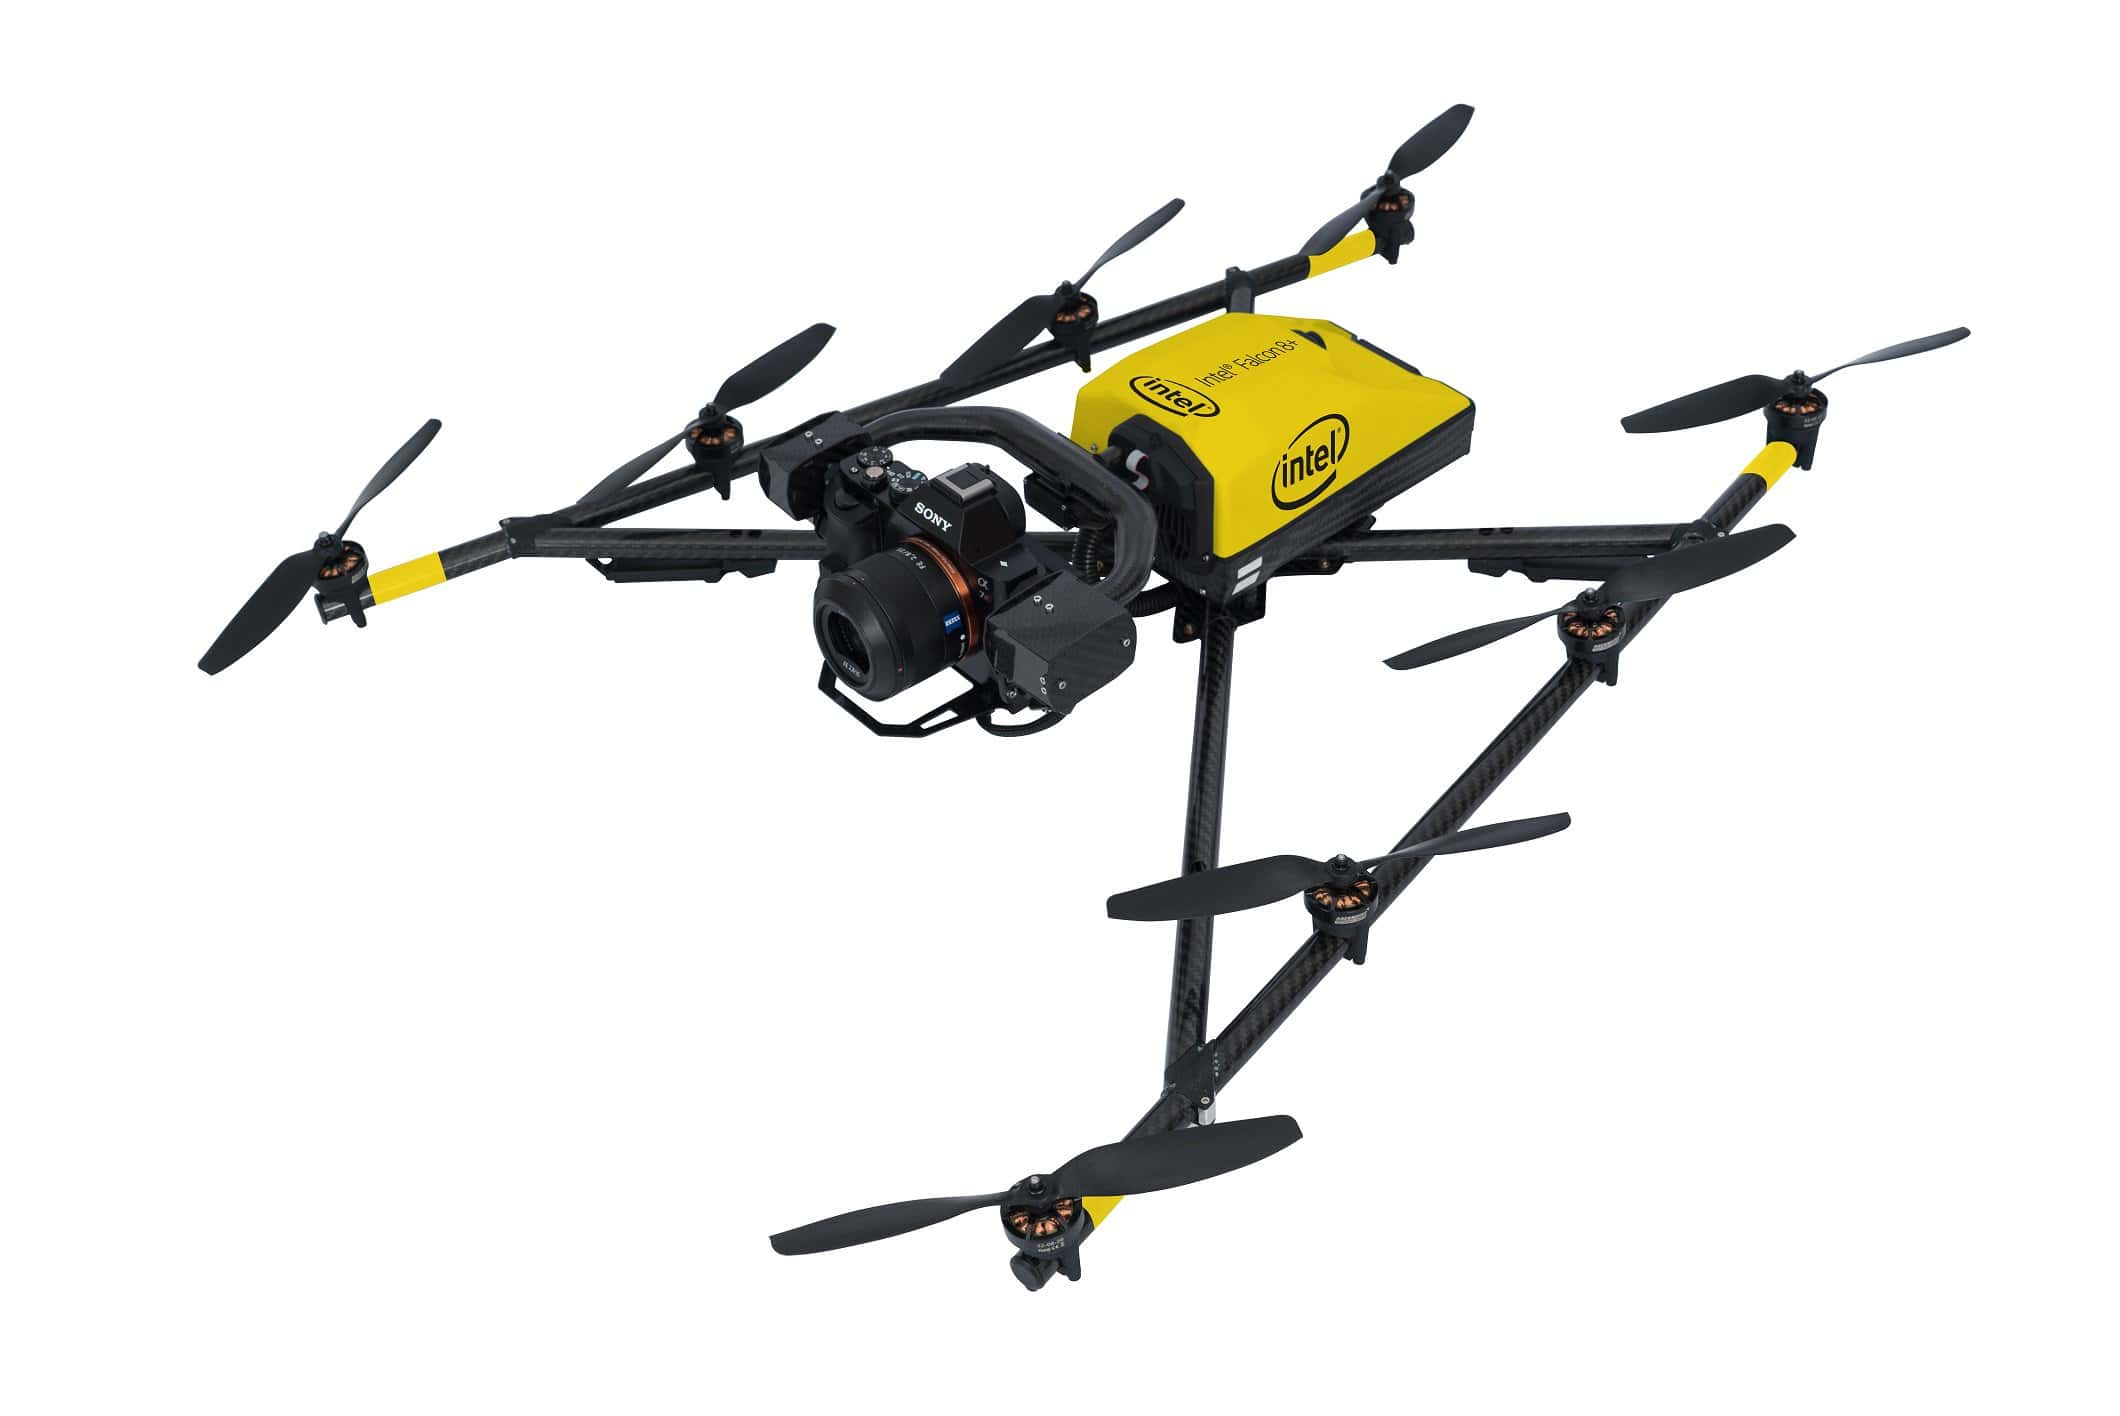drone: (201, 96, 1978, 1297)
